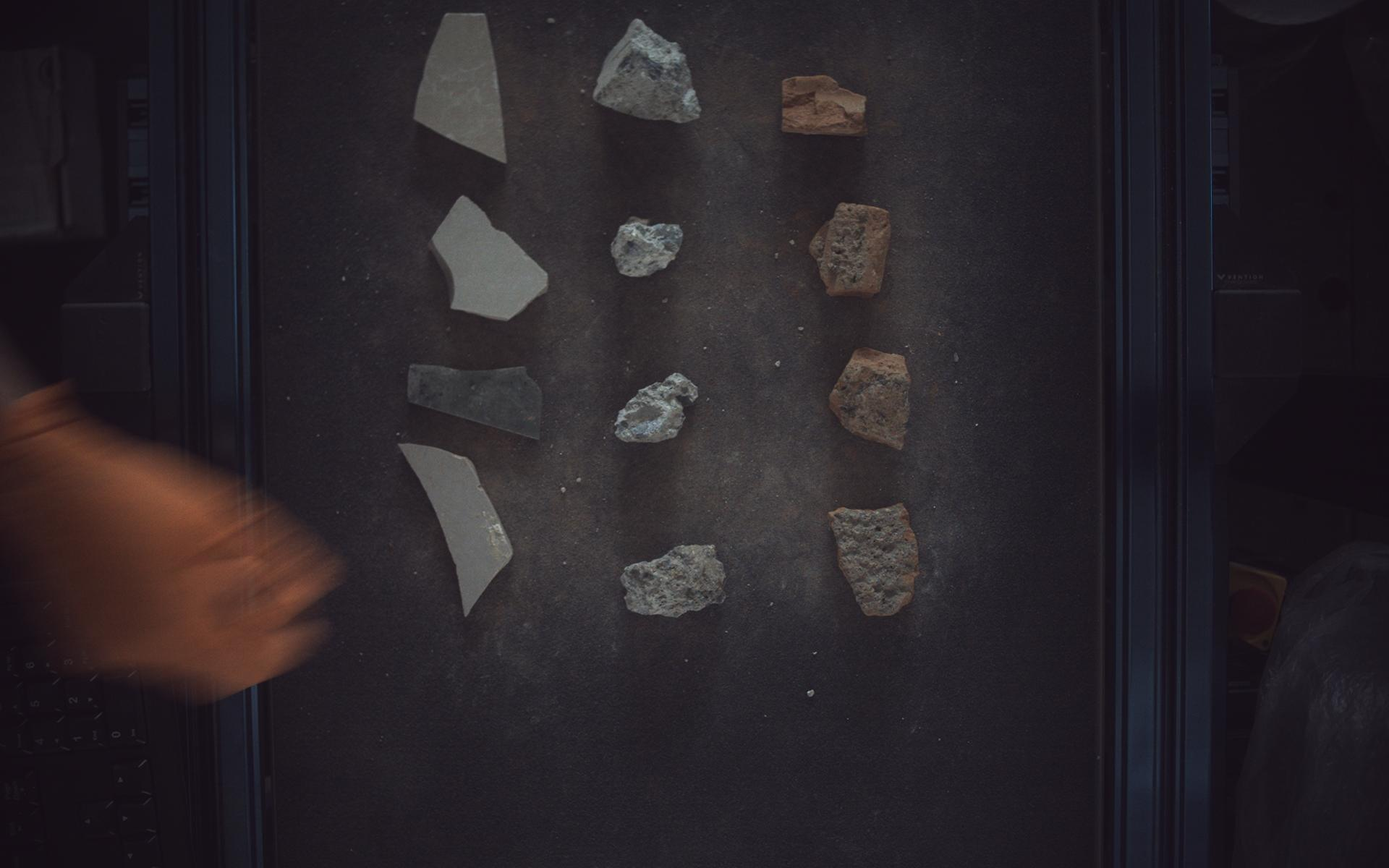brick: (831, 503, 919, 617), (832, 347, 912, 450), (811, 202, 892, 297), (783, 74, 869, 135)
concrete: (593, 17, 702, 122), (621, 545, 726, 618), (615, 373, 699, 443), (611, 216, 684, 277)
tile: (399, 444, 513, 617), (430, 195, 548, 320), (415, 12, 506, 162), (407, 365, 543, 440)
